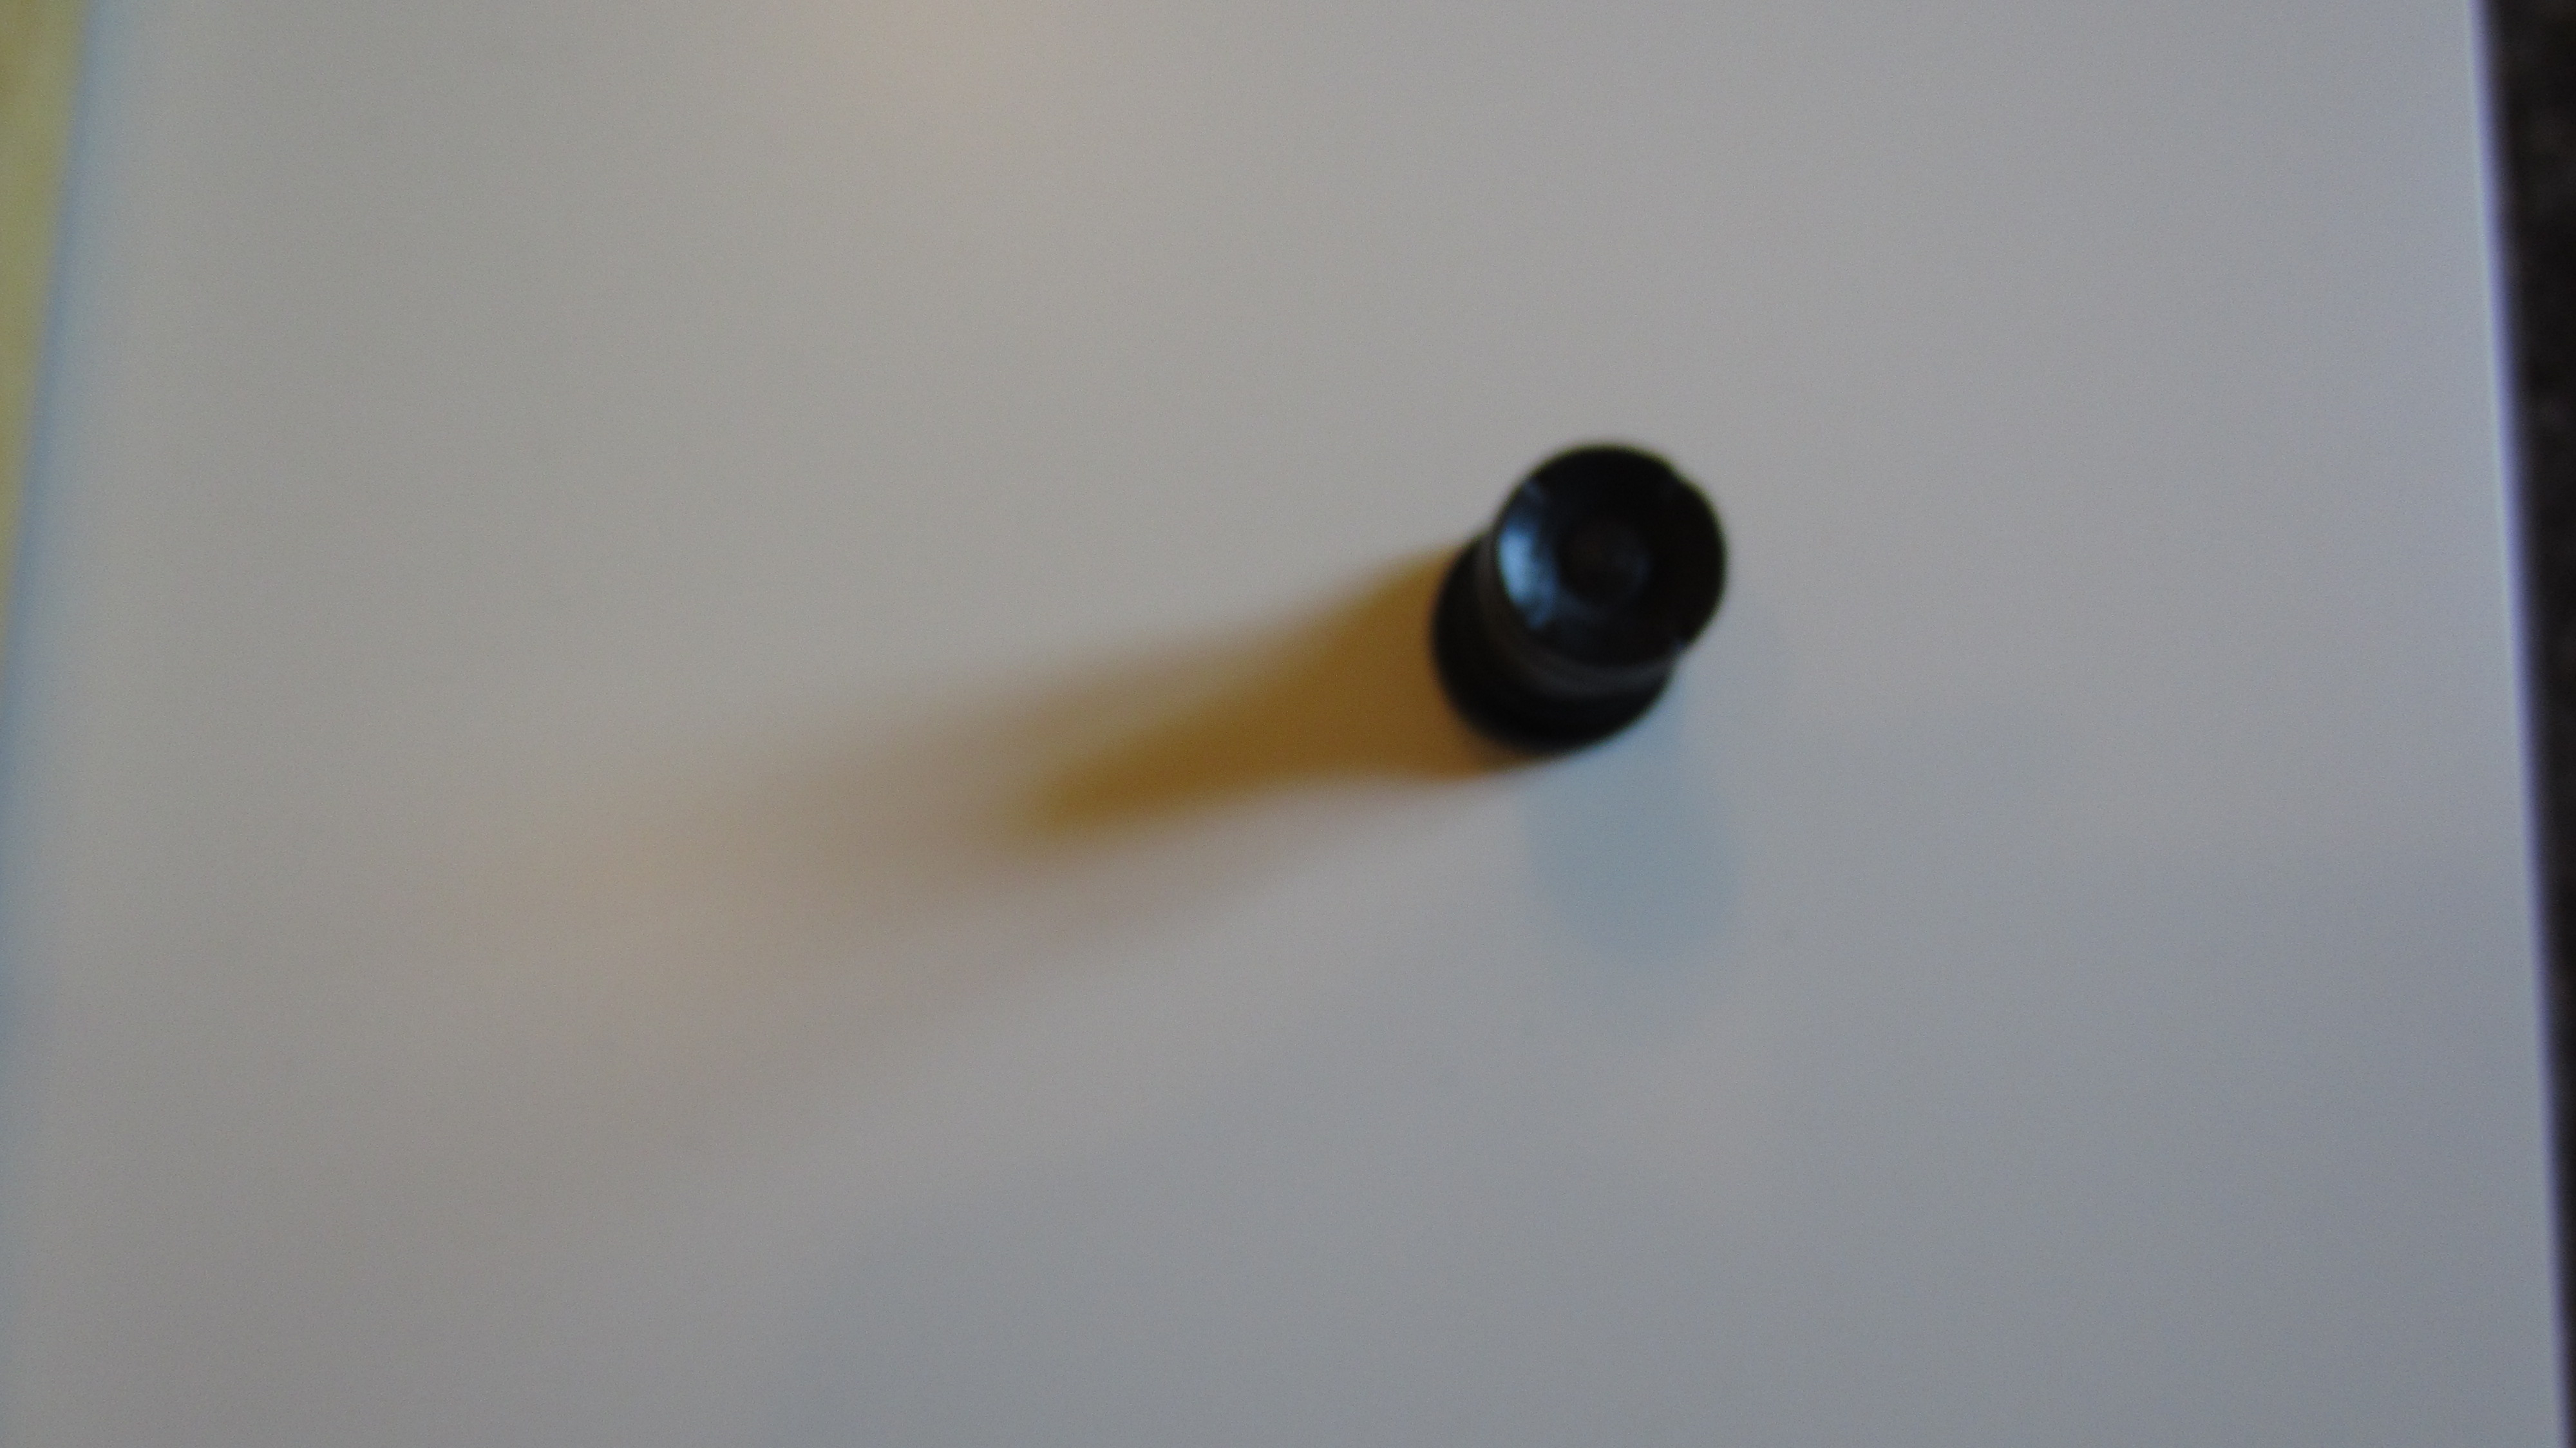black-rook: (1422, 437, 1729, 765)
